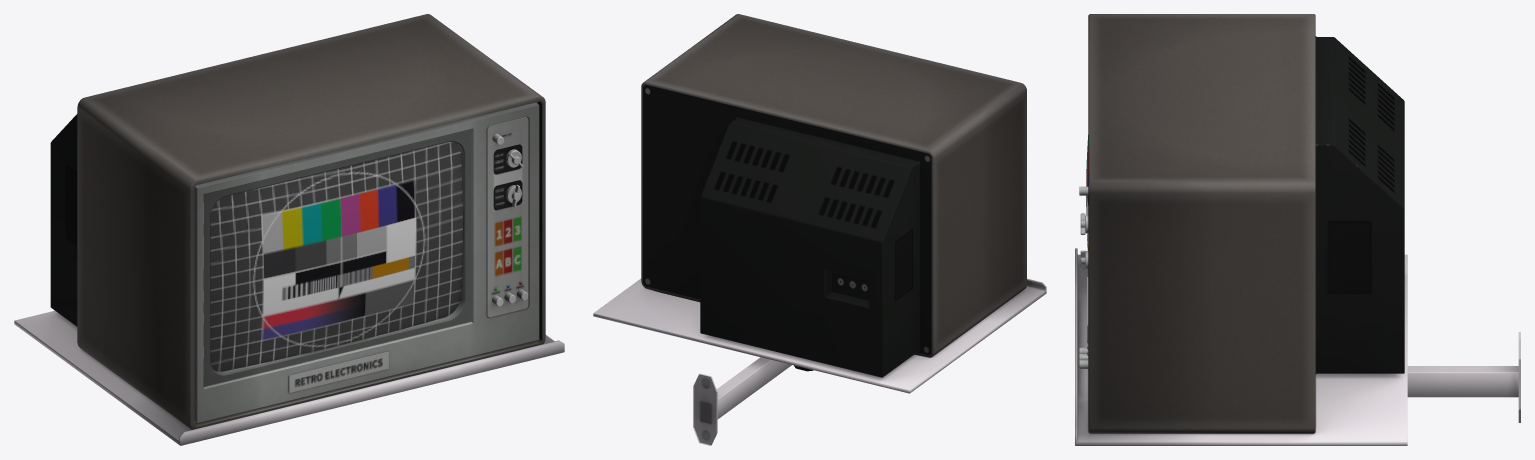
Rendered from video_store_tv.obj.
3 renders of one model, left to right at view 1: azimuth 30°, elevation 25°; view 2: azimuth 150°, elevation 25°; view 3: azimuth 270°, elevation 25°, orthographic. The views are drawn at different scales.
Visible parts, largest first — view 1: Mesh12_Group15_Group11_Group6_Group1_Model; view 2: Mesh12_Group15_Group11_Group6_Group1_Model; view 3: Mesh12_Group15_Group11_Group6_Group1_Model.
Part boxes in pixels (x1,y1,x2,y2): Mesh12_Group15_Group11_Group6_Group1_Model: (14,14,564,445); Mesh12_Group15_Group11_Group6_Group1_Model: (593,14,1046,445); Mesh12_Group15_Group11_Group6_Group1_Model: (1075,14,1520,445).
Size of the model in its own units: 0.6488 by 0.5198 by 0.6513.
Materials: 1 (1 with a texture image).
